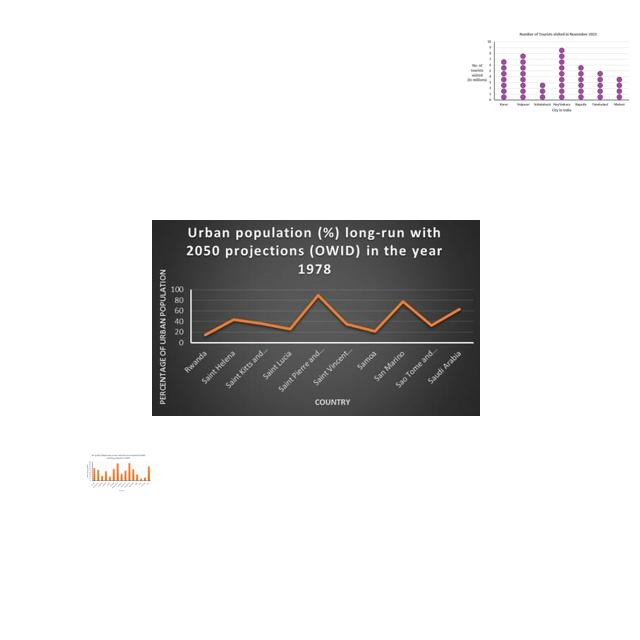Graph: (152, 220, 480, 416), (466, 30, 630, 114), (85, 453, 152, 492)
